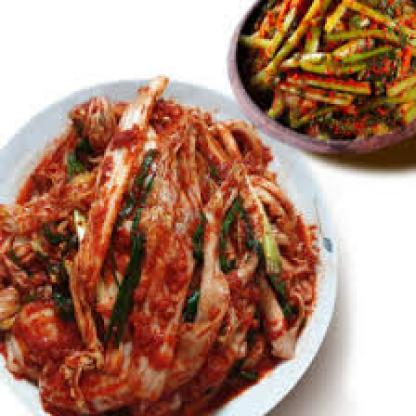Kimchi stew: (2, 93, 308, 408)
young radish Kimchi: (241, 0, 415, 140)
